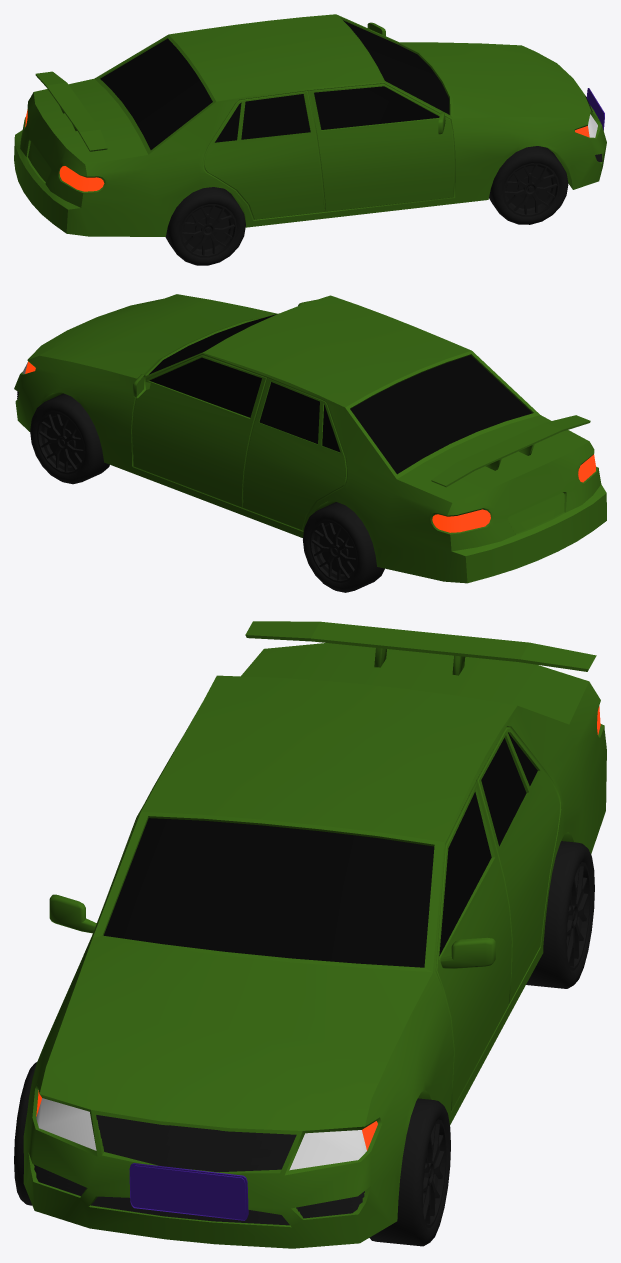
The model's file is GreenSedan.fbx.
The picture shows the model from 3 angles, top to bottom: view 1: azimuth 30°, elevation 25°; view 2: azimuth 150°, elevation 25°; view 3: azimuth 270°, elevation 25°; orthographic projection. The views are drawn at different scales.
Parts seen in each view (by area): view 1: carcase.003, Tire3.005, Tire3.006, cover.002; view 2: carcase.003, Tire2.003, Tire1.003, cover.002; view 3: carcase.003, cover.002, Tire1.003, Tire2.003, Plate2.002, Tire3.006.
Boxes of the visible parts, bbox=[...] form: carcase.003: bbox=[14, 14, 606, 236]; Tire3.005: bbox=[165, 187, 245, 265]; Tire3.006: bbox=[489, 146, 568, 224]; cover.002: bbox=[35, 71, 107, 151]; carcase.003: bbox=[14, 294, 606, 583]; Tire2.003: bbox=[303, 502, 384, 592]; Tire1.003: bbox=[30, 393, 109, 484]; cover.002: bbox=[431, 415, 590, 487]; carcase.003: bbox=[23, 643, 606, 1248]; cover.002: bbox=[245, 621, 596, 675]; Tire1.003: bbox=[369, 1098, 450, 1246]; Tire2.003: bbox=[526, 841, 594, 988]; Plate2.002: bbox=[129, 1163, 248, 1220]; Tire3.006: bbox=[14, 1062, 36, 1205].
Bounding box in the file's own units: 47.87 × 13.9 × 25.63.
